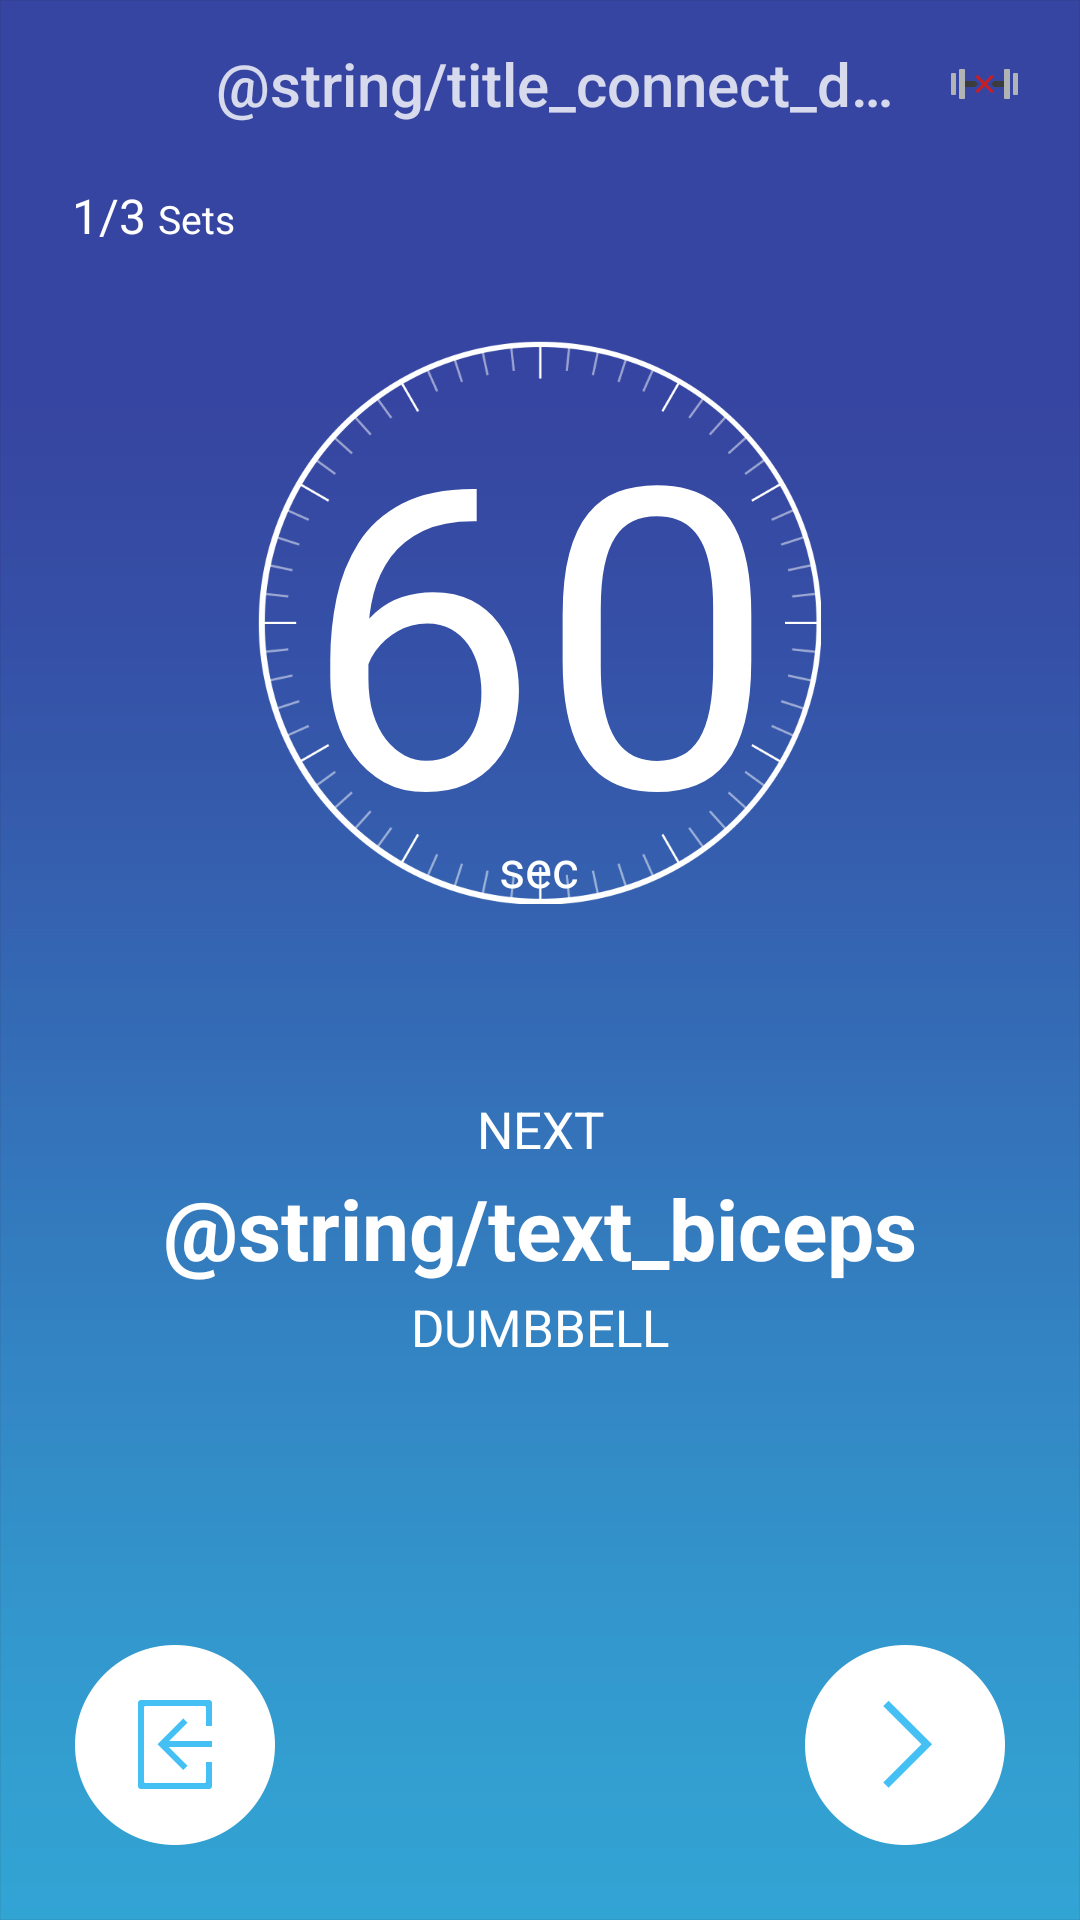

Locate icon controls on the screen. Image size 1080x1920, boxes as BBox(x1, y1, x2, y2).
title connect no: BBox(951, 69, 1018, 99)
